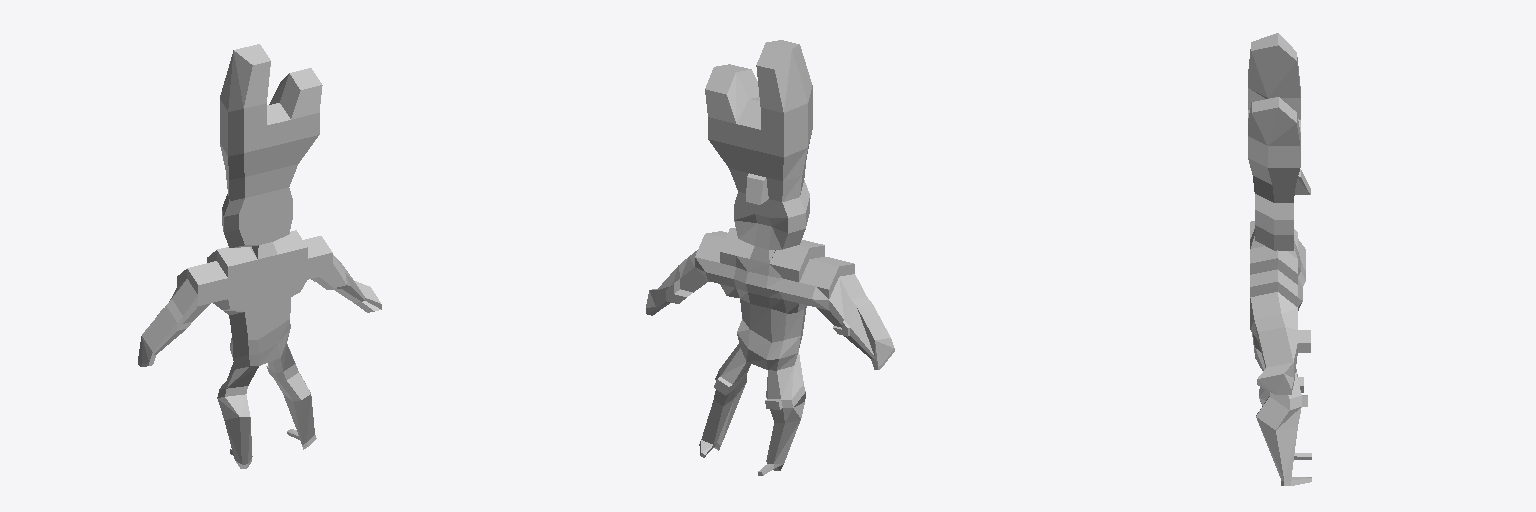
The model's file is vamp23.obj.
3 views of the same model, side by side, from view 1: azimuth 30°, elevation 25°; view 2: azimuth 150°, elevation 25°; view 3: azimuth 270°, elevation 25° (orthographic).
Visible parts, largest first — view 1: Cube.776_Cube.973; view 2: Cube.776_Cube.973; view 3: Cube.776_Cube.973.
Boxes of the visible parts, x1=… form: Cube.776_Cube.973: x1=138, y1=44, x2=381, y2=468; Cube.776_Cube.973: x1=646, y1=40, x2=894, y2=475; Cube.776_Cube.973: x1=1248, y1=33, x2=1311, y2=485.
Size of the model in its own units: 28.06 by 48.73 by 6.71.